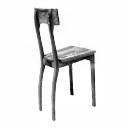chair_success: (27, 2, 102, 121)
